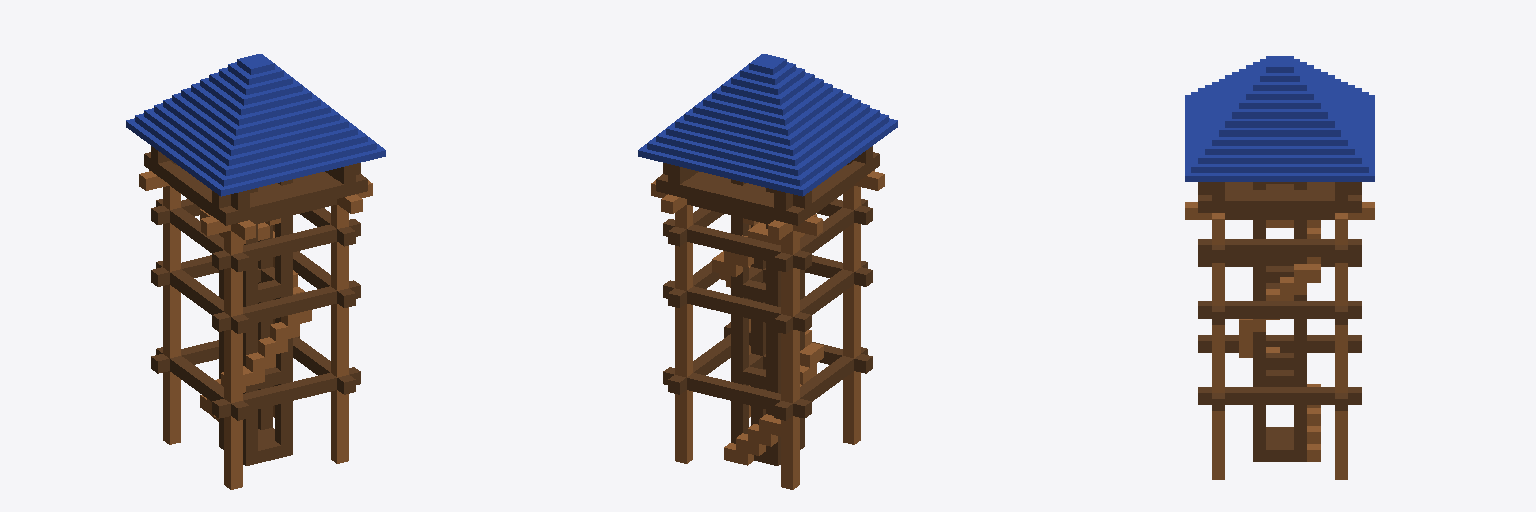
The picture shows the model from 3 angles: view 1: azimuth 30°, elevation 25°; view 2: azimuth 150°, elevation 25°; view 3: azimuth 270°, elevation 25°; orthographic projection.
Visible parts, largest first — view 1: WoodenTower1; view 2: WoodenTower1; view 3: WoodenTower1.
Boxes of the visible parts, <box> form: WoodenTower1: <box>126,54,385,489</box>; WoodenTower1: <box>638,54,897,489</box>; WoodenTower1: <box>1185,56,1374,479</box>.
Size of the model in its own units: 2.8 by 6.3 by 2.8.
1 materials, 1 textured.